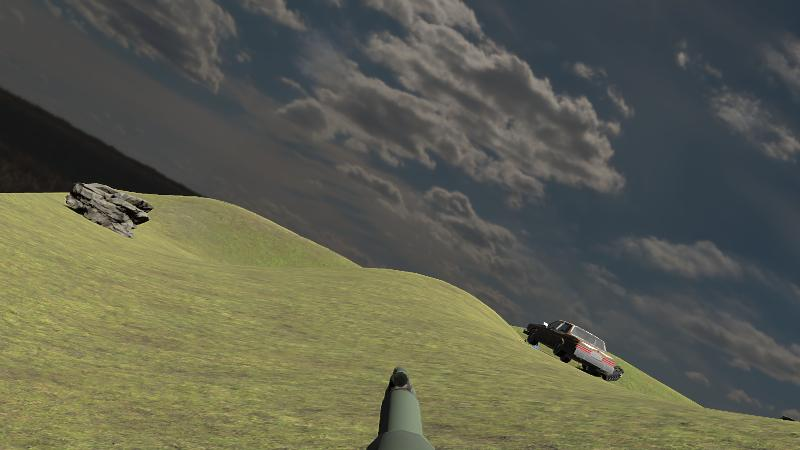car: (525, 319, 614, 380)
